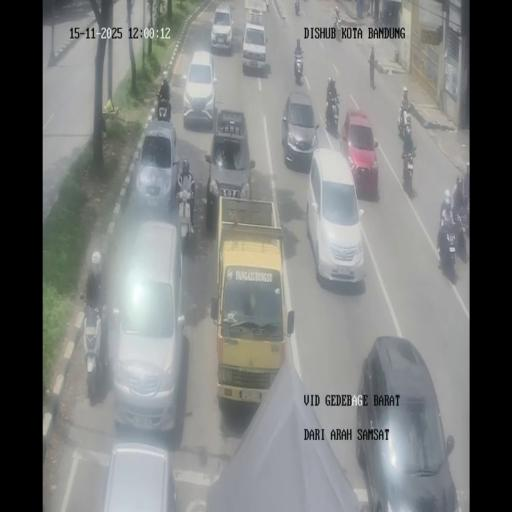3: (210, 194, 289, 408)
car: (355, 338, 457, 509), (110, 218, 186, 433), (306, 147, 365, 285), (204, 108, 254, 225), (99, 440, 177, 510), (132, 120, 180, 218), (281, 90, 319, 170), (183, 50, 217, 130), (242, 21, 268, 74), (210, 3, 234, 54)
truck: (81, 299, 108, 400), (437, 213, 460, 277), (178, 181, 196, 242), (325, 94, 339, 132), (398, 104, 412, 138), (156, 94, 171, 122), (293, 47, 304, 84), (401, 152, 411, 190), (463, 193, 470, 242), (335, 18, 342, 41), (364, 0, 370, 17), (295, 2, 300, 15), (379, 10, 384, 22), (264, 0, 268, 12)
